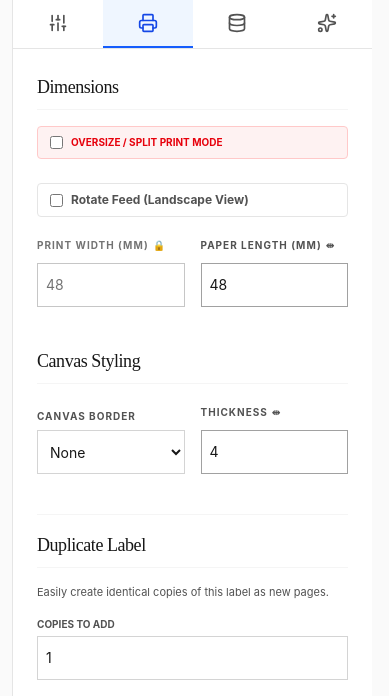
Test case: html fields expose names and visible-label associations
Click the tab named "Element and layout": click(58, 24) [13, 0, 103, 48]
(page scrolled)
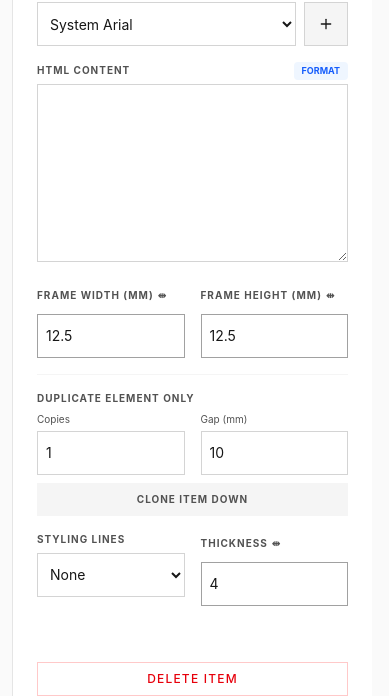
Expected: the dropdown labelled "Font Family" is shown, [37, 2, 296, 46]
Expected: the text box labelled "HTML Content" is shown, [37, 84, 348, 262]
Expected: the number field labelled "Frame Width (mm) ⇹" is shown, [37, 314, 184, 358]
